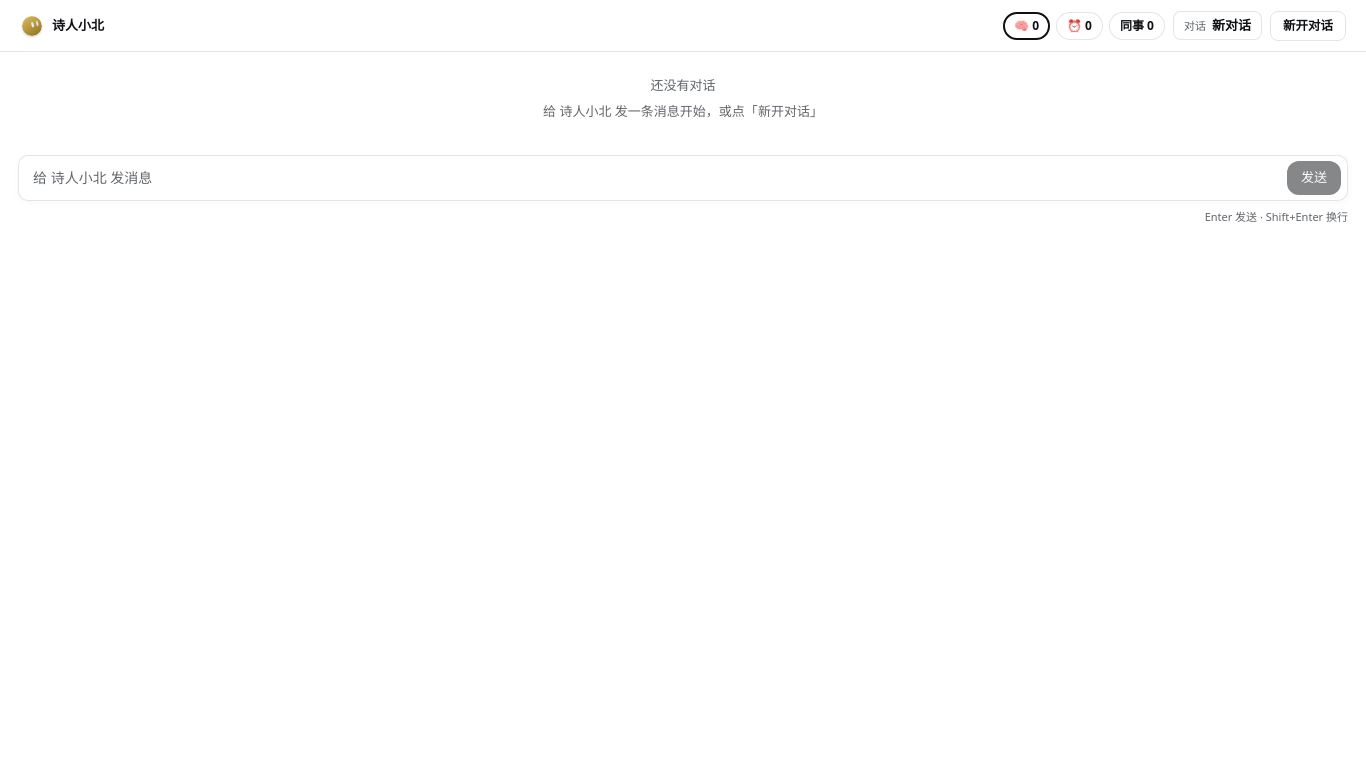
Scenario: Conversation › keeps one header panel open at a time and closes it with Escape
Expected: the text box with test id "composer-input" is shown, [25,160,1283,196]
Click the button with test id "memory-open": [1026, 26] box [1003,12,1050,40]
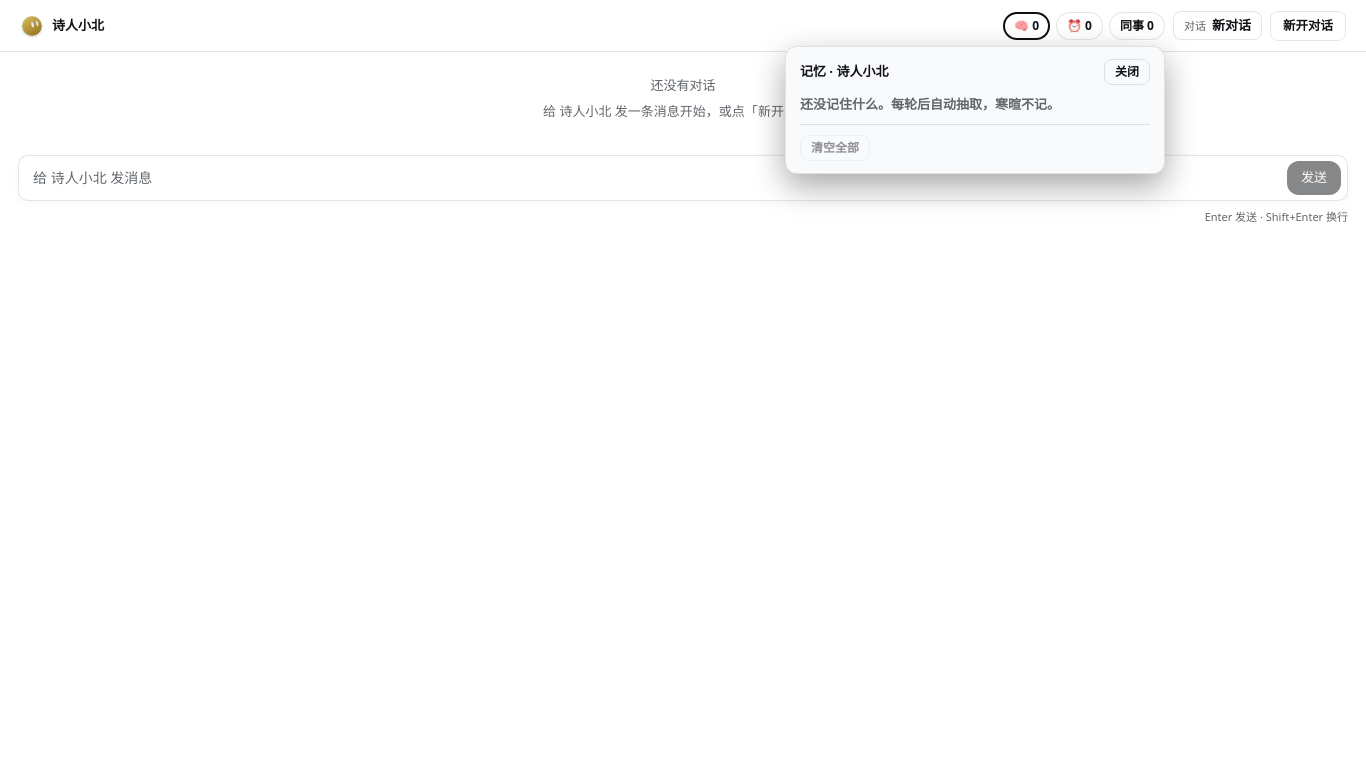
Expected: the element with test id "memory-panel" is shown, [785,46,1165,174]
Click the button with test id "routines-open": [1080, 26] box [1056,12,1103,40]
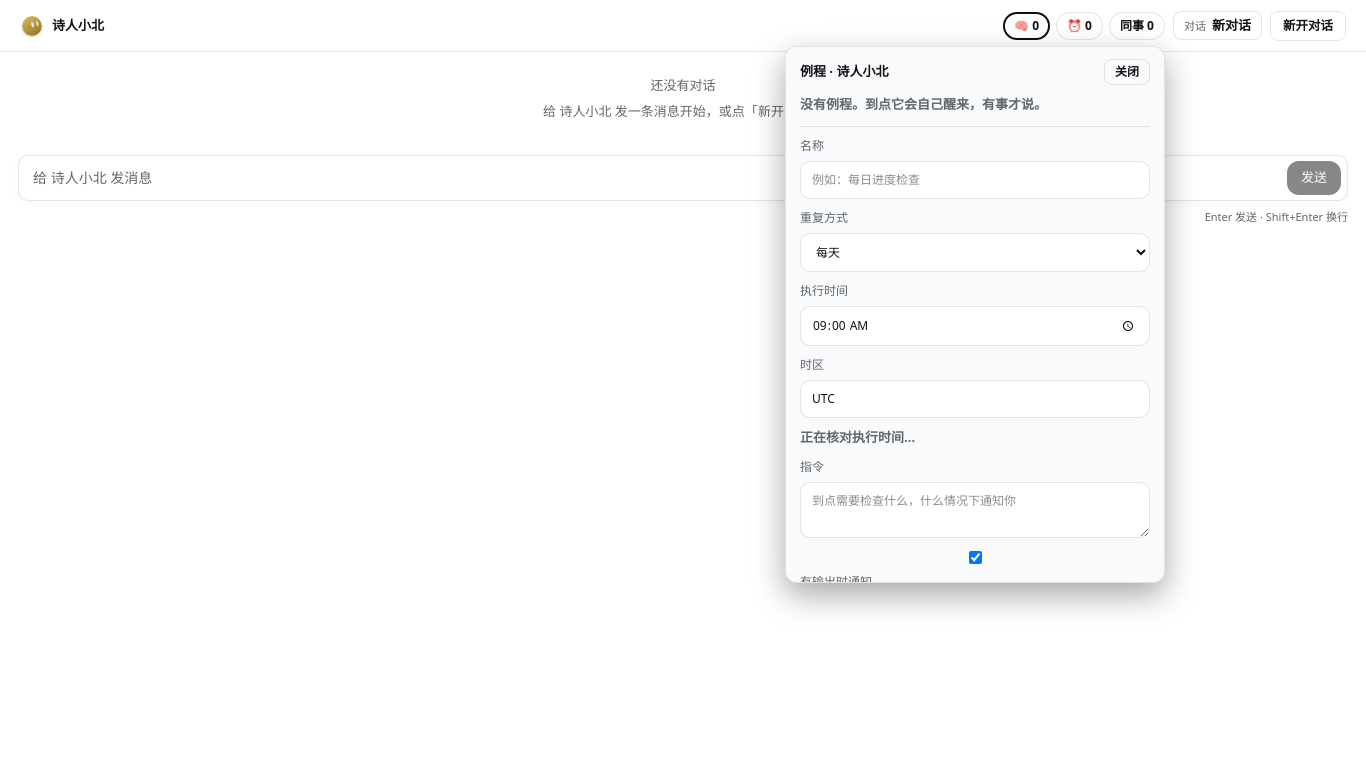
Expected: the element with test id "memory-panel" is gone
Expected: the element with test id "routines-panel" is shown, [785,46,1165,583]
Click the button with test id "peers-open": [1137, 26] box [1109,12,1165,40]
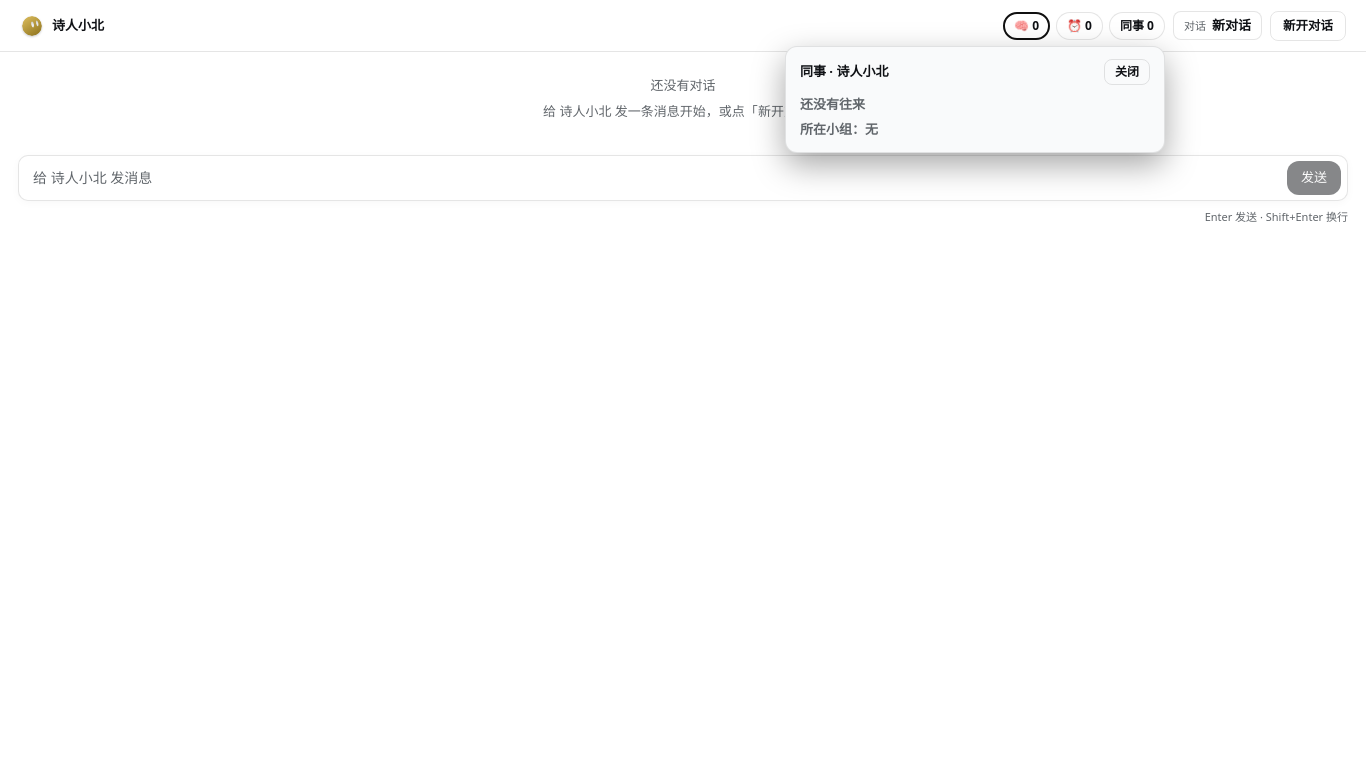
Expected: the element with test id "routines-panel" is gone
Expected: the element with test id "peers-panel" is shown, [785,46,1165,152]
Click the button with test id "peers-open": [1137, 26] box [1109,12,1165,40]
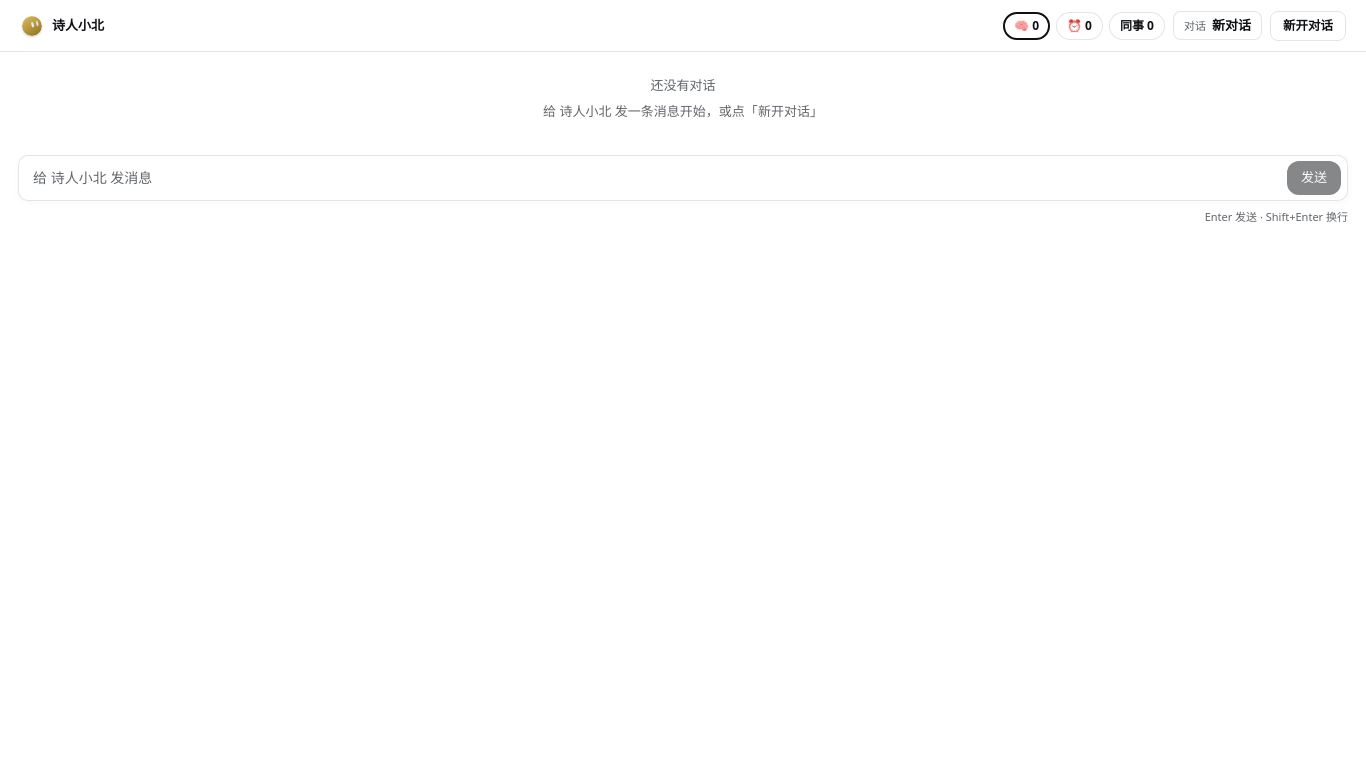
Expected: the element with test id "peers-panel" is gone
Click the button with test id "memory-open": [1026, 26] box [1003,12,1050,40]
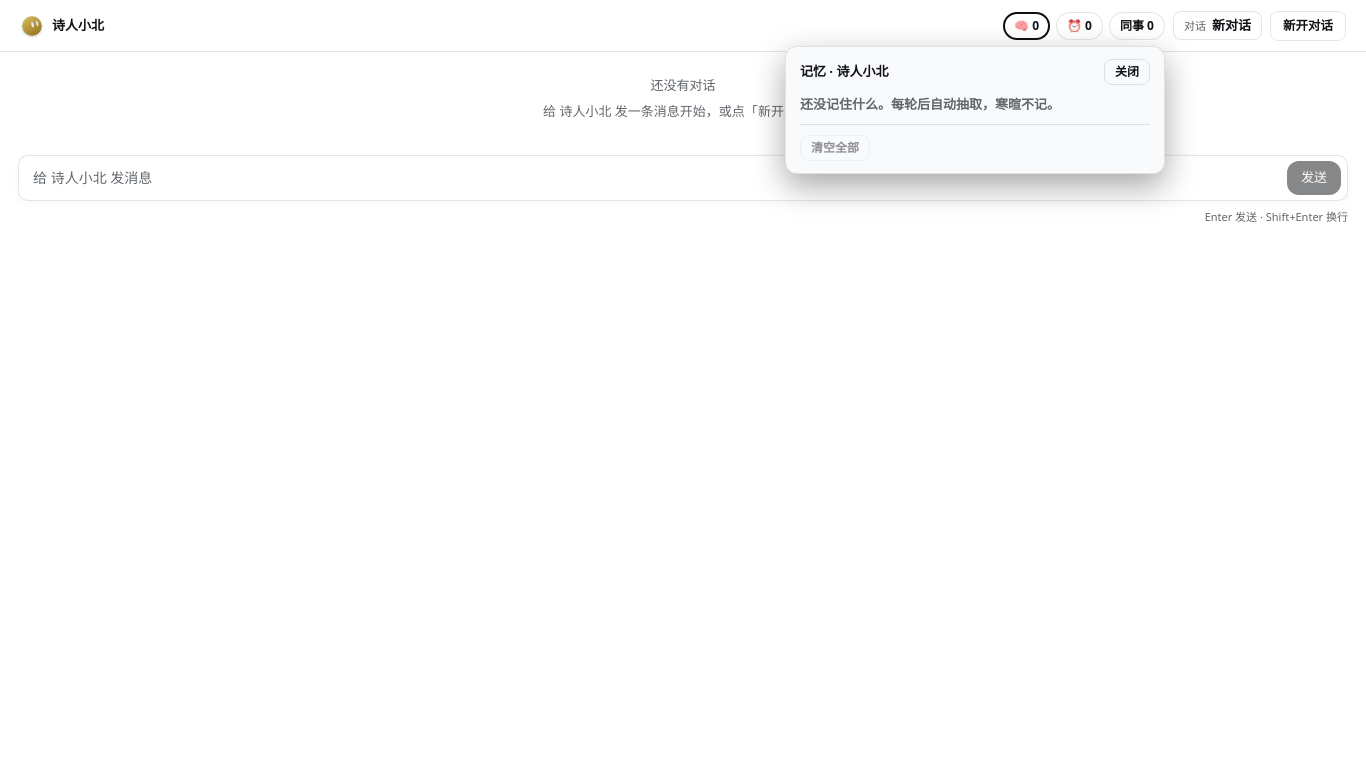
Press Escape
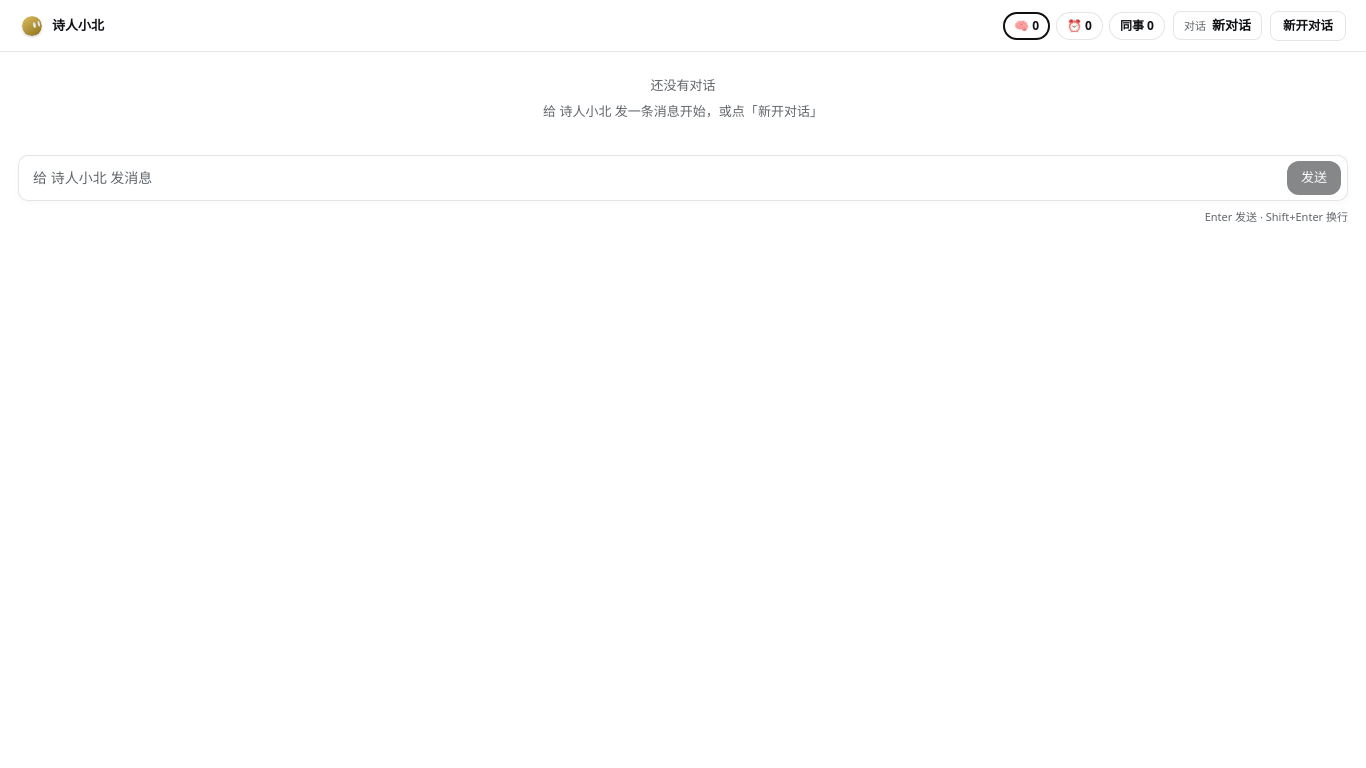
Expected: the element with test id "memory-panel" is gone
